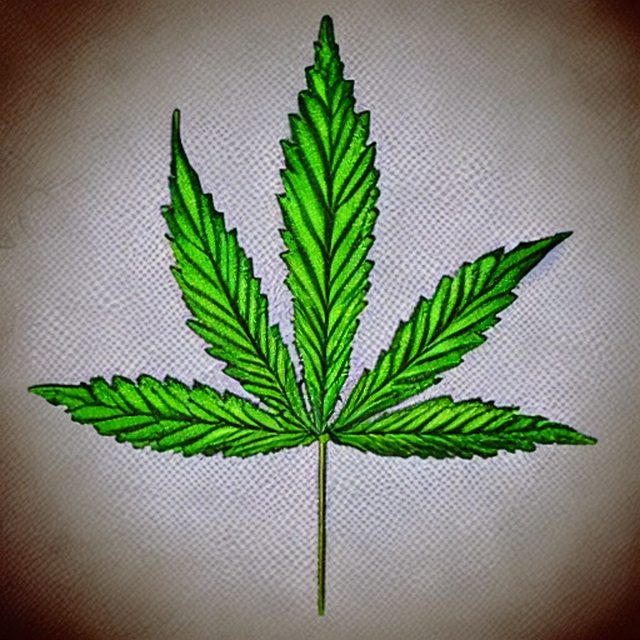Marijuana Leaf: (26, 13, 598, 615), (273, 13, 382, 428)
